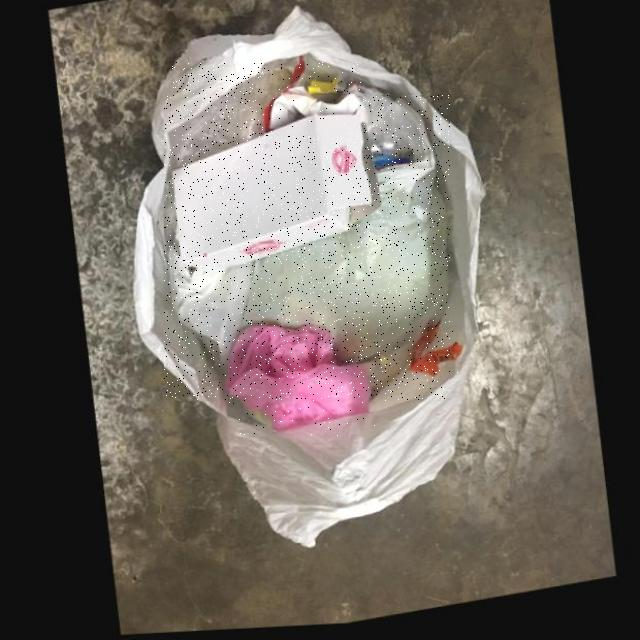paper: (173, 102, 372, 272), (265, 58, 363, 136)
plastic: (164, 95, 450, 400), (227, 326, 375, 436), (171, 62, 297, 173)
wrapper: (407, 329, 462, 380)
